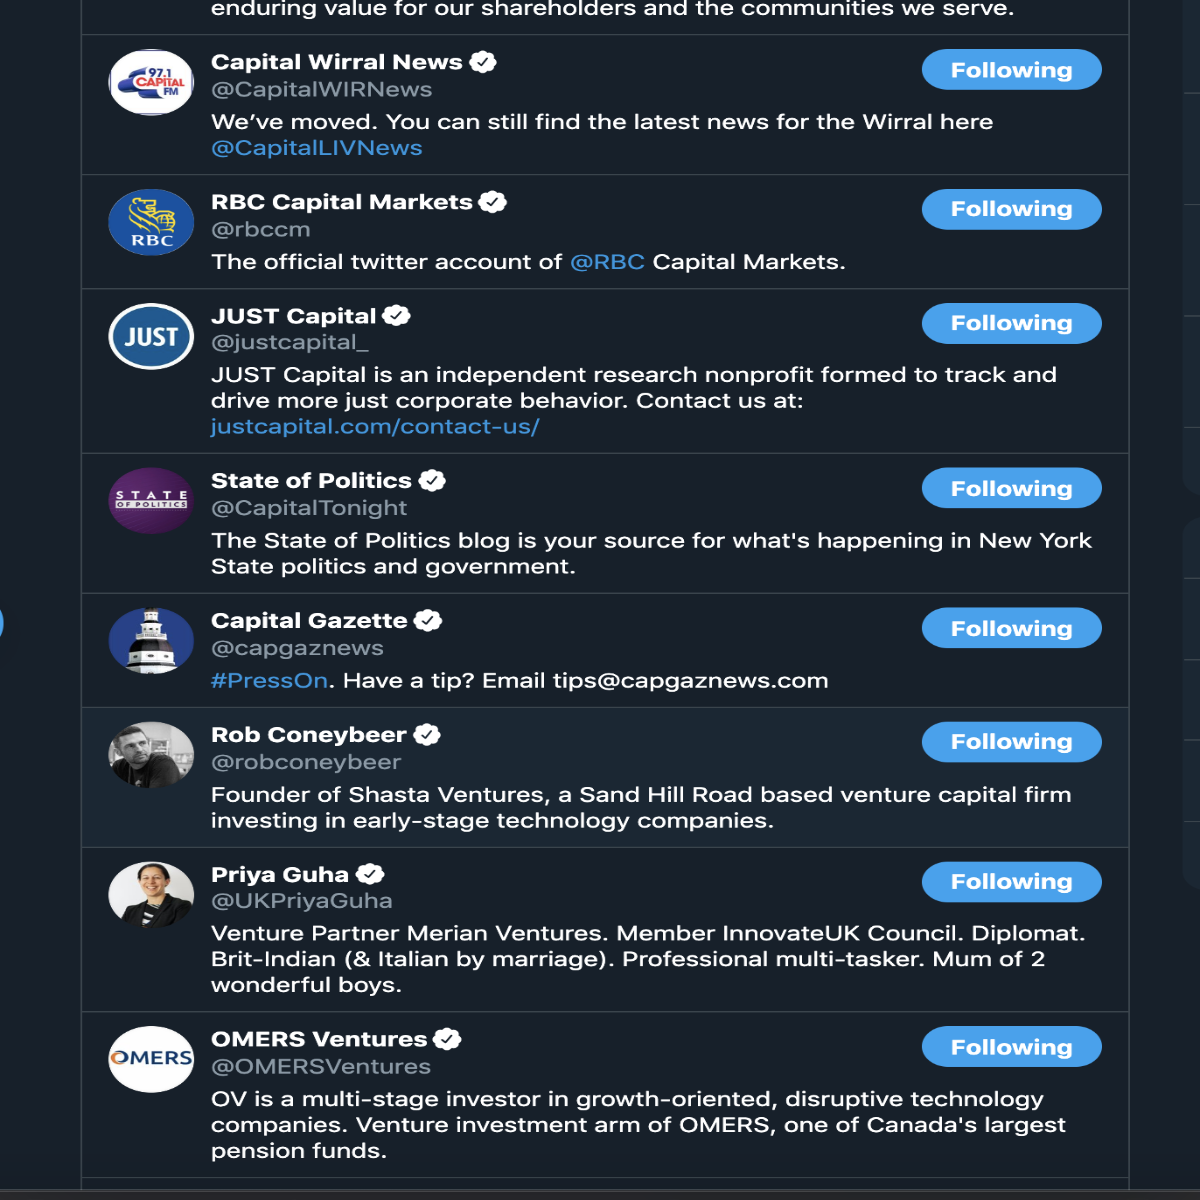button: (921, 605, 1101, 651), (922, 300, 1102, 344), (921, 860, 1101, 904), (923, 47, 1103, 90), (923, 187, 1103, 230), (922, 465, 1102, 508), (923, 720, 1103, 763), (921, 1023, 1101, 1066)
